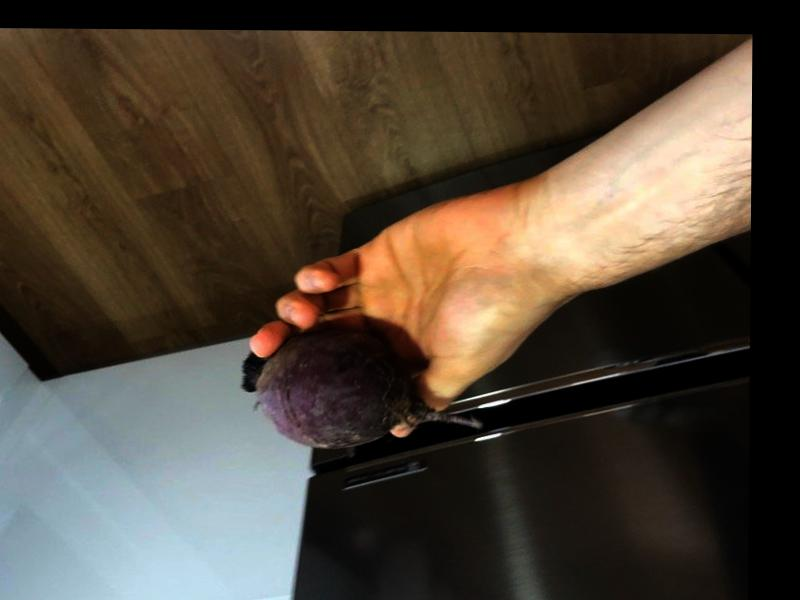Beet: (239, 332, 480, 447)
